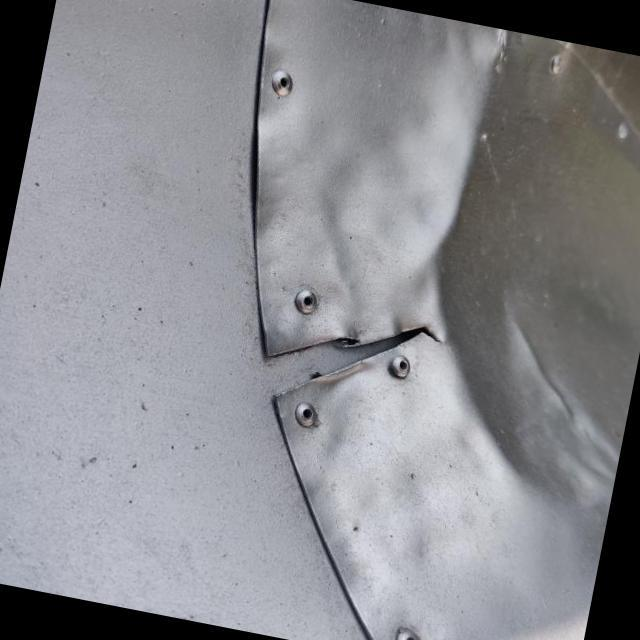Dent: (359, 19, 640, 534)
Rupture: (242, 279, 463, 445)
